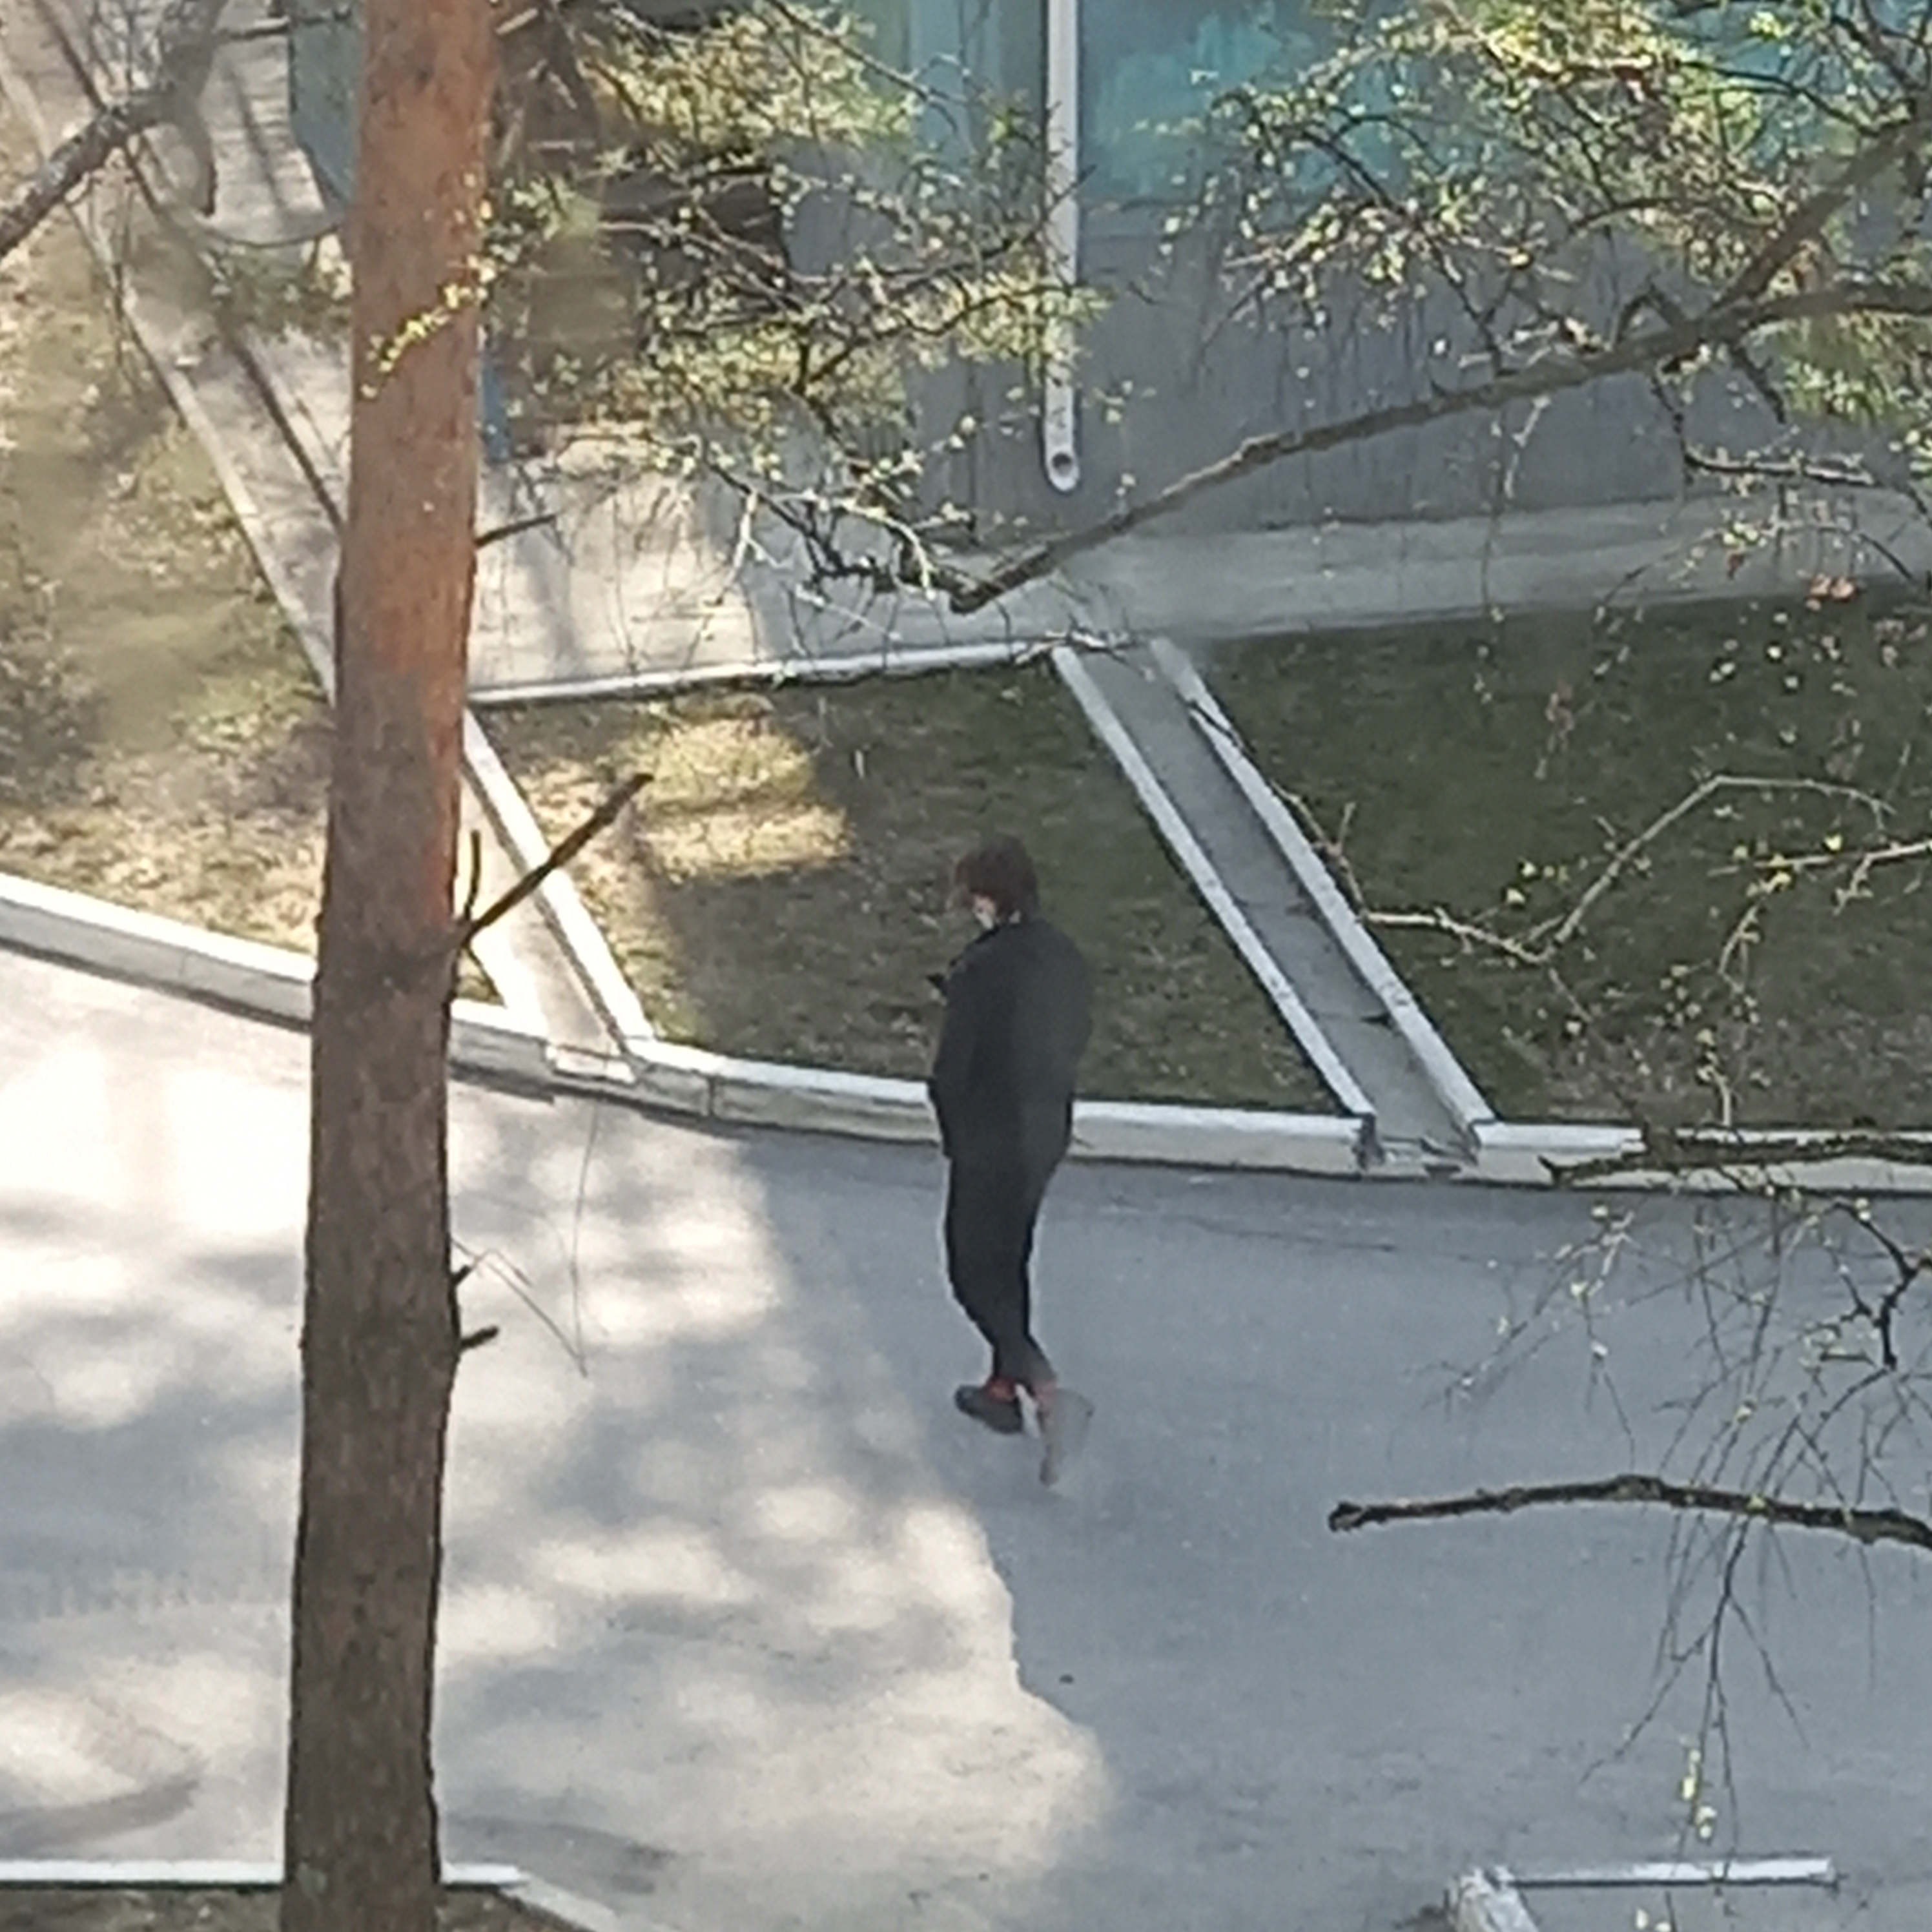person: (914, 837, 1100, 1495)
